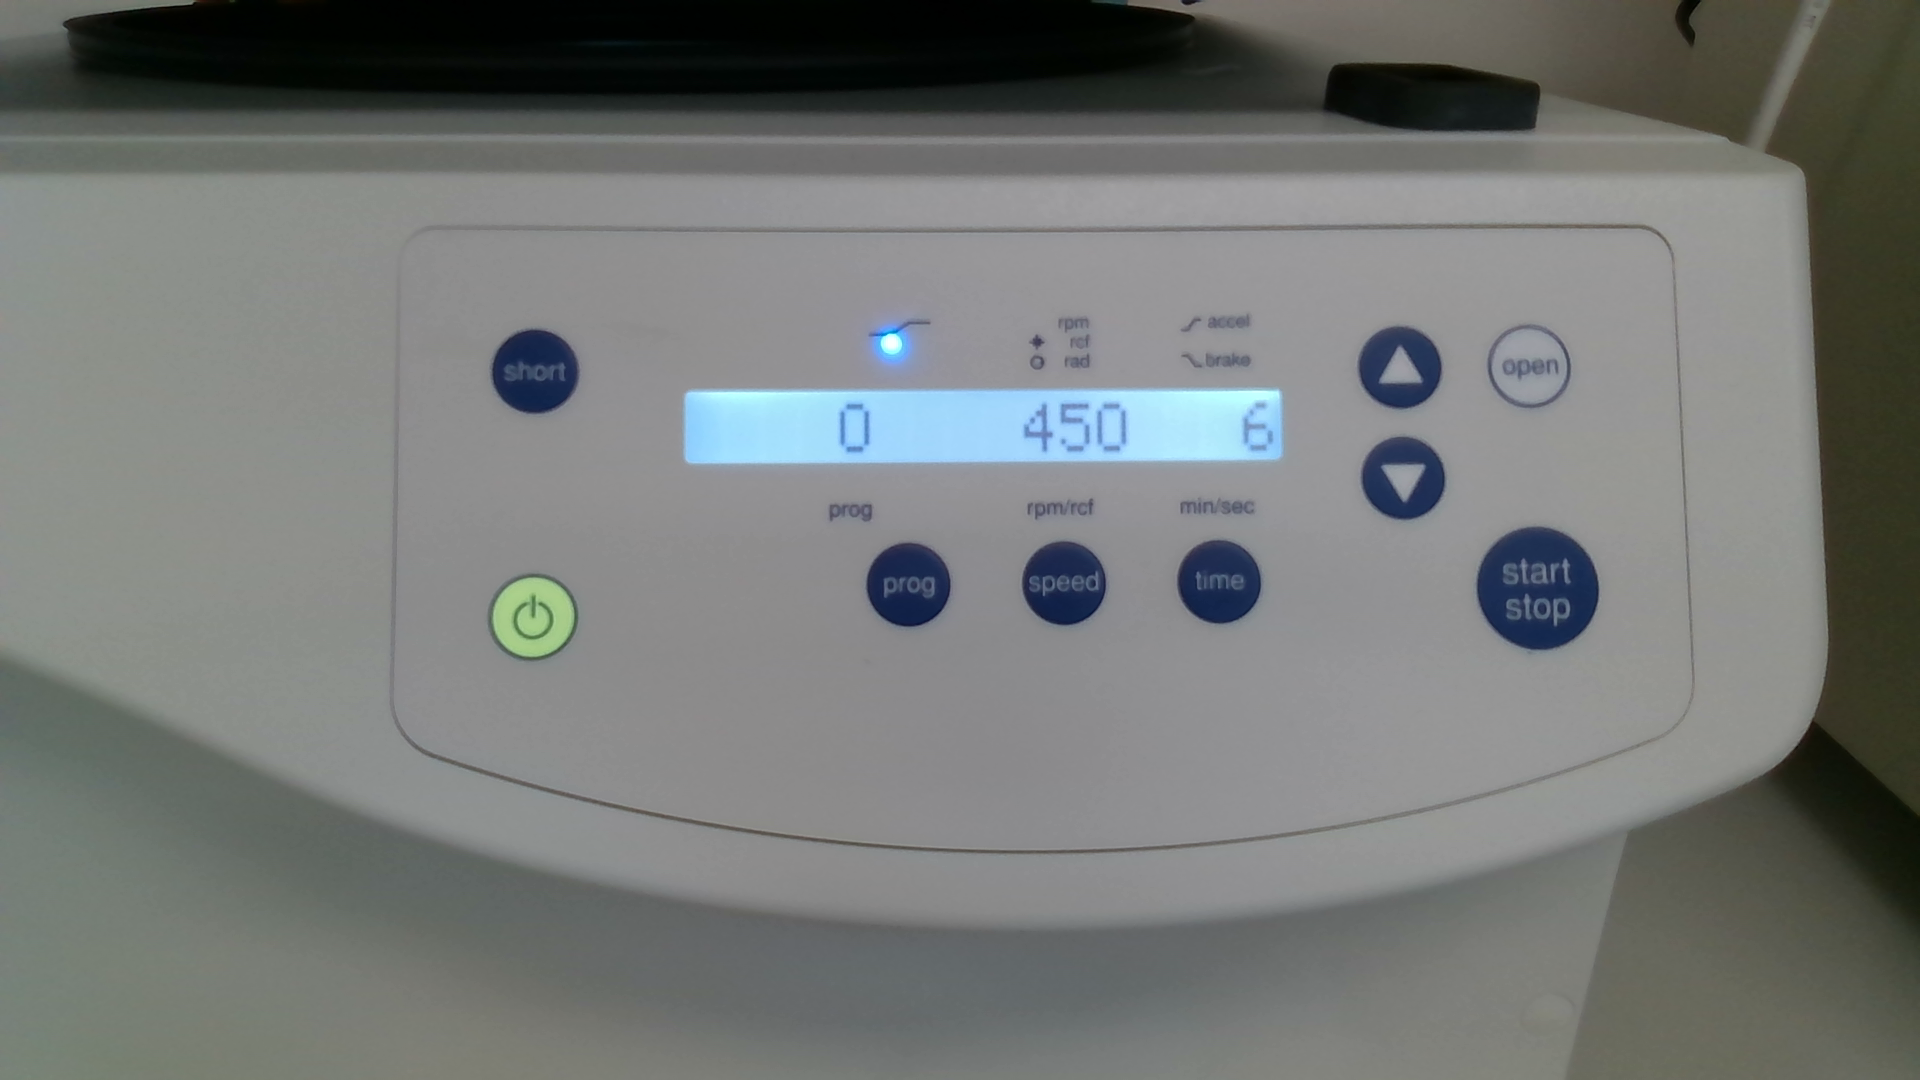0: (839, 404, 870, 454), (1097, 404, 1126, 452)
4: (1023, 404, 1054, 452)
5: (1059, 404, 1089, 452)
6: (1244, 401, 1273, 451)
open_off: (1487, 324, 1571, 409)
power_on: (488, 574, 578, 661)
